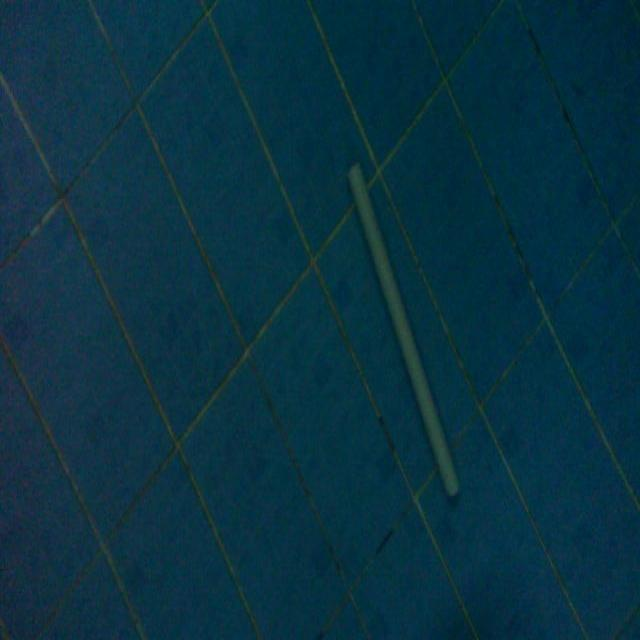Cube: (344, 155, 462, 501)
